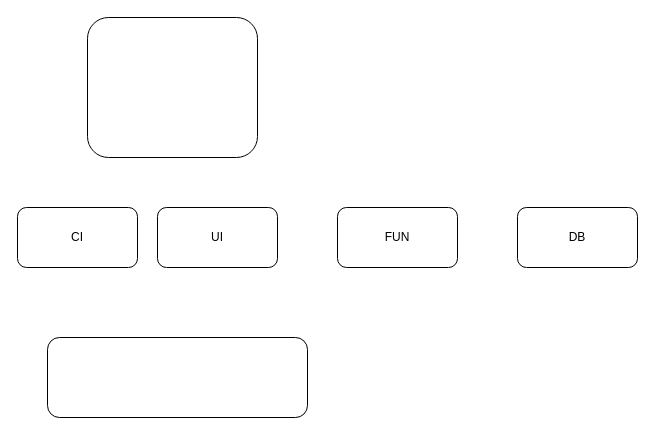
The diagram is 655 pixels wide and 435 high, and some of its shapes have lost their labels. Here are the shapes that lost their labels. From the top down, the centre of each, then its label:
At (x=172, y=87): "unit testing,code covrage,compile,pakcage".
At (x=177, y=377): "validate,compile,test,package,install,deploy".
